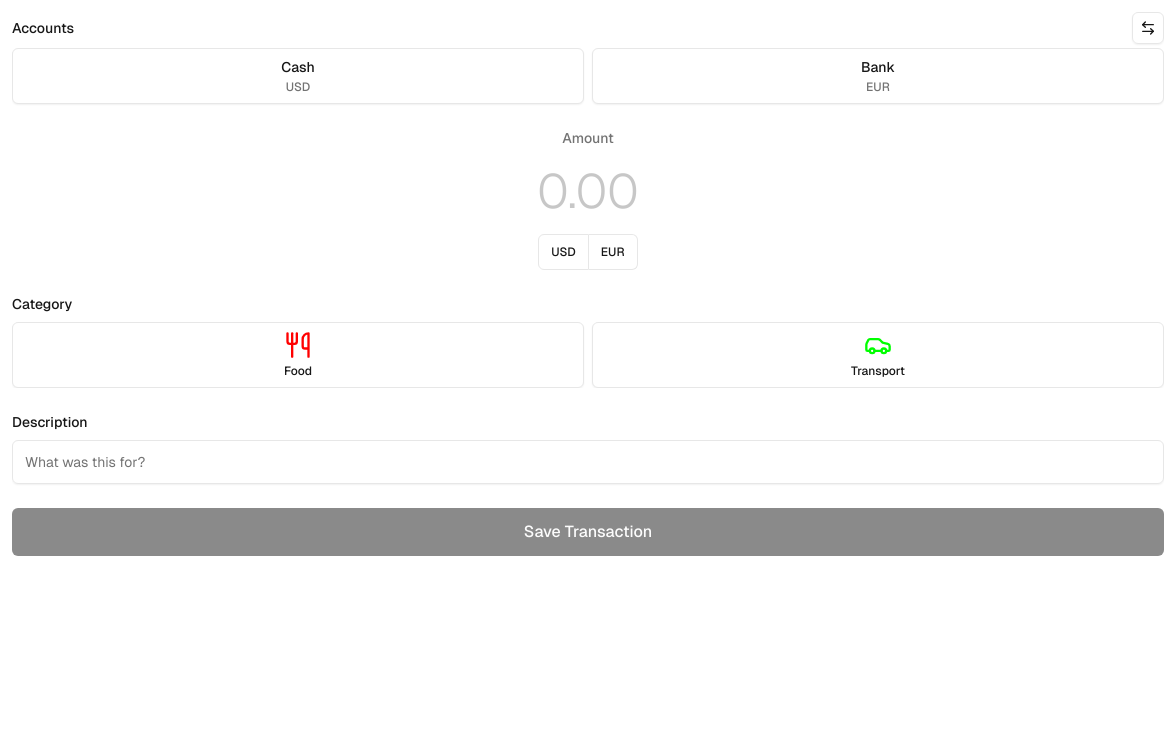
Test: CaptureForm › enables submit when account, amount, and category are set
Click the text "Cash".
click(298, 67)  # box 281,57 -> 315,77
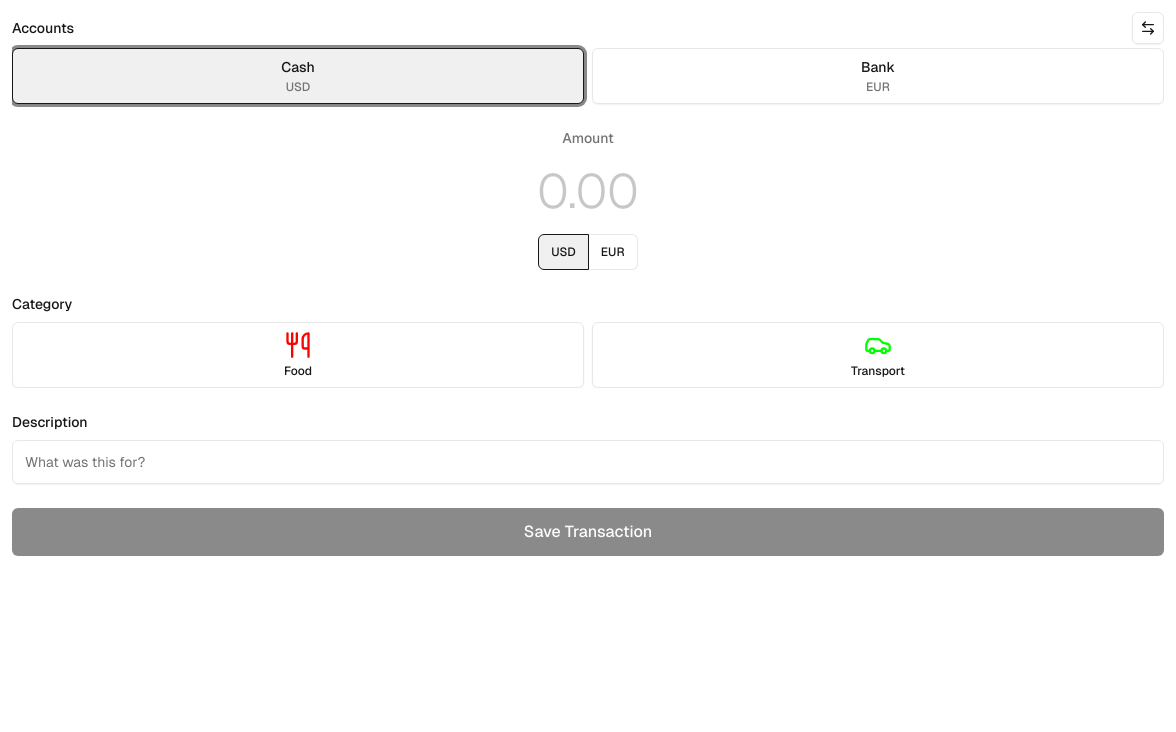
Type "42" into the field with placeholder "0.00".
click(588, 191); type("42")  # box 12,160 -> 1164,222
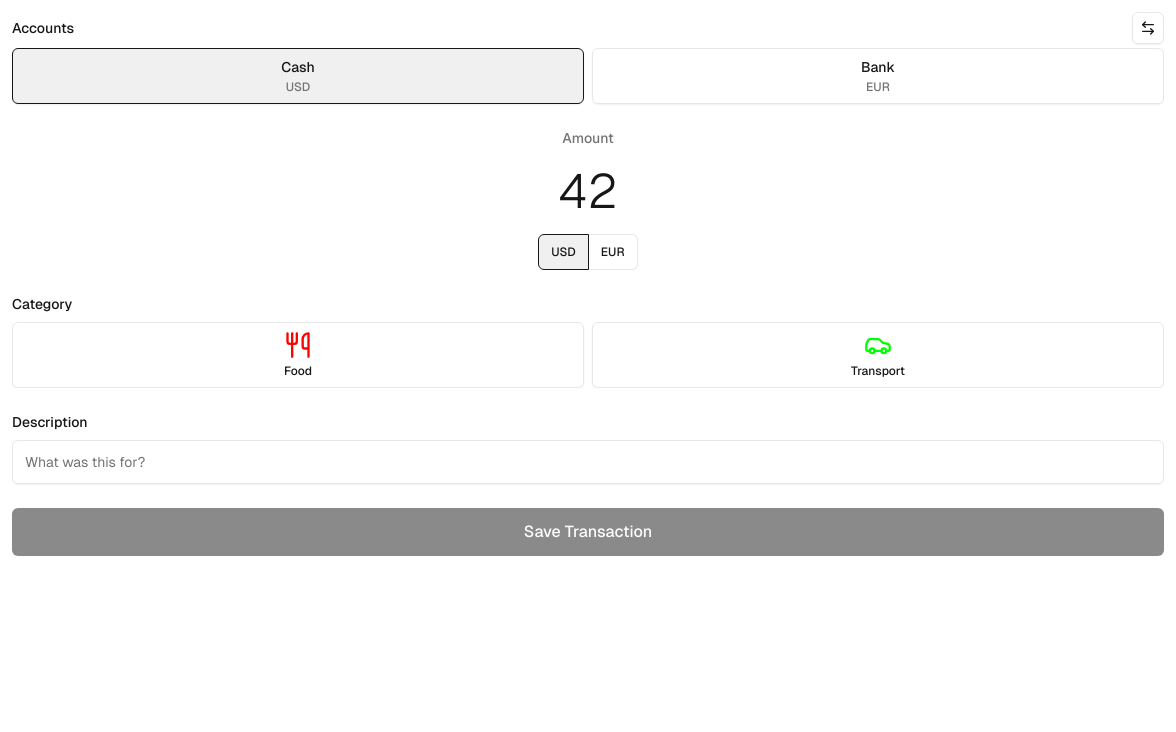
Click the button "Food".
click(298, 355)  # box 12,322 -> 584,388
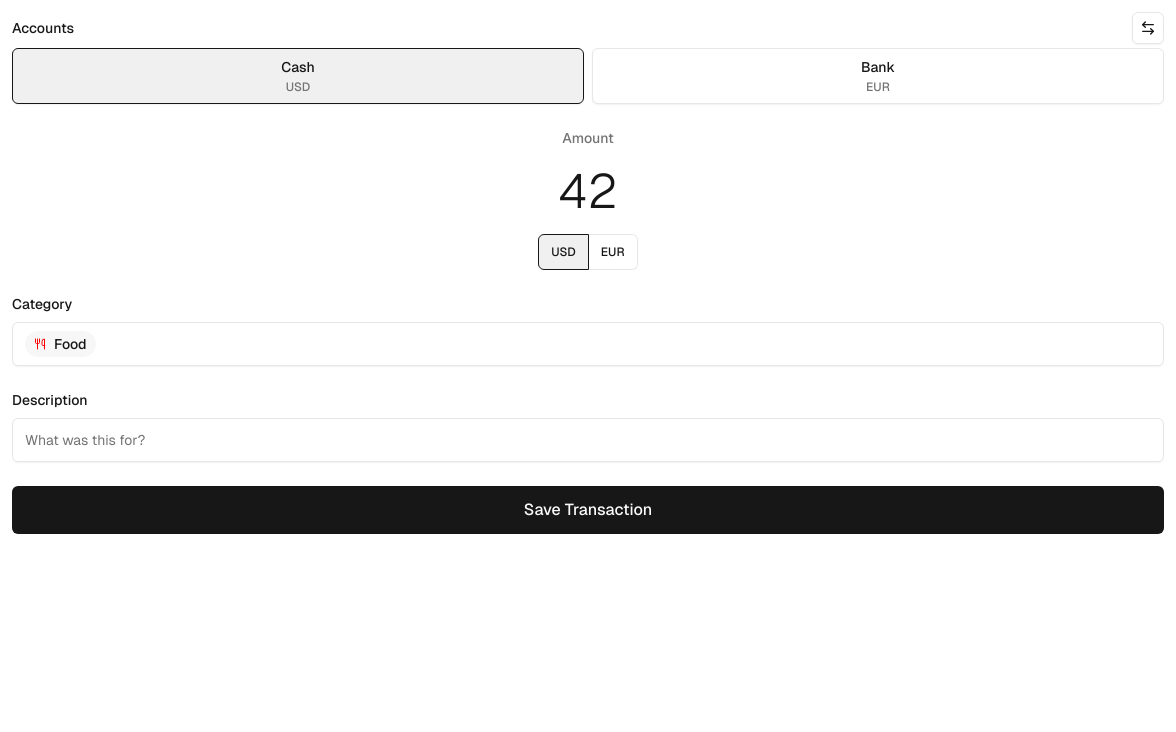
Check: the button "Save Transaction" is enabled, box 12,486 -> 1164,534
